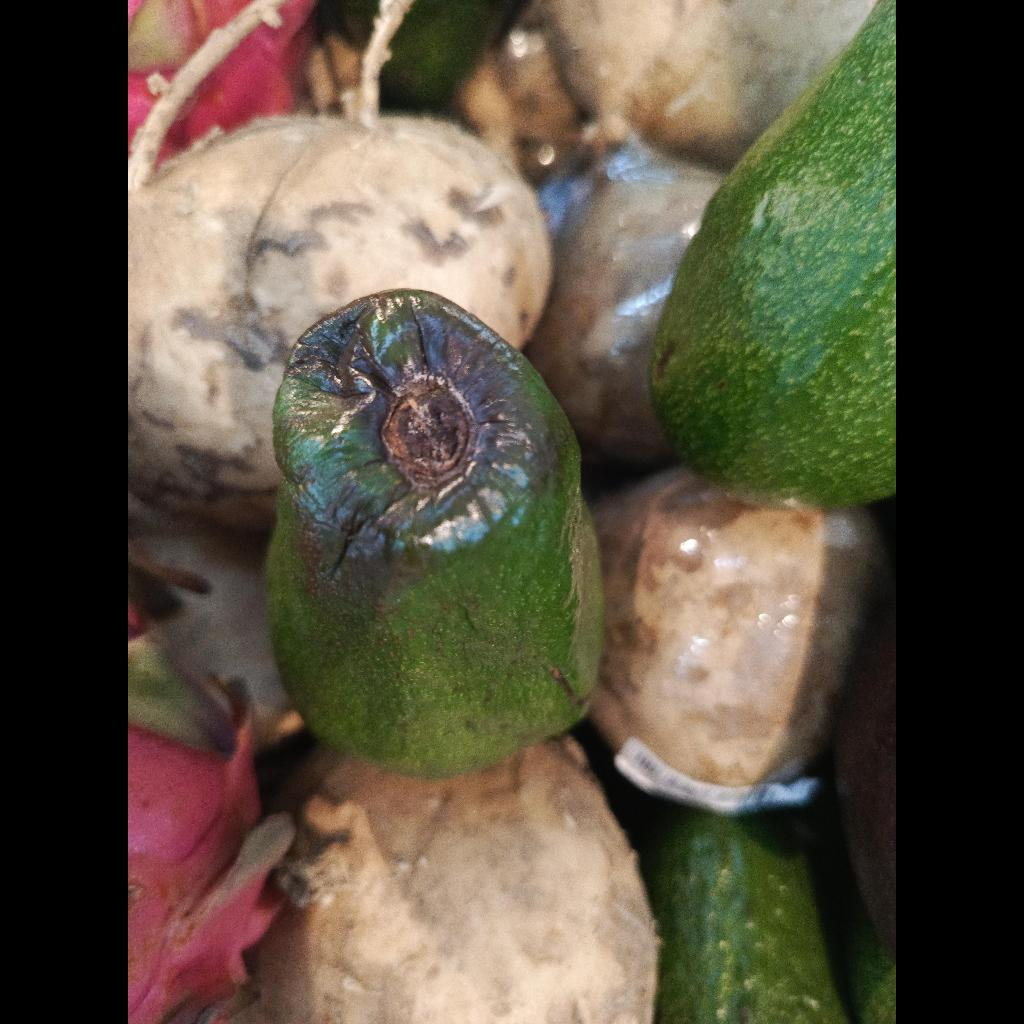pudricion_peduncular: (267, 289, 603, 778)
